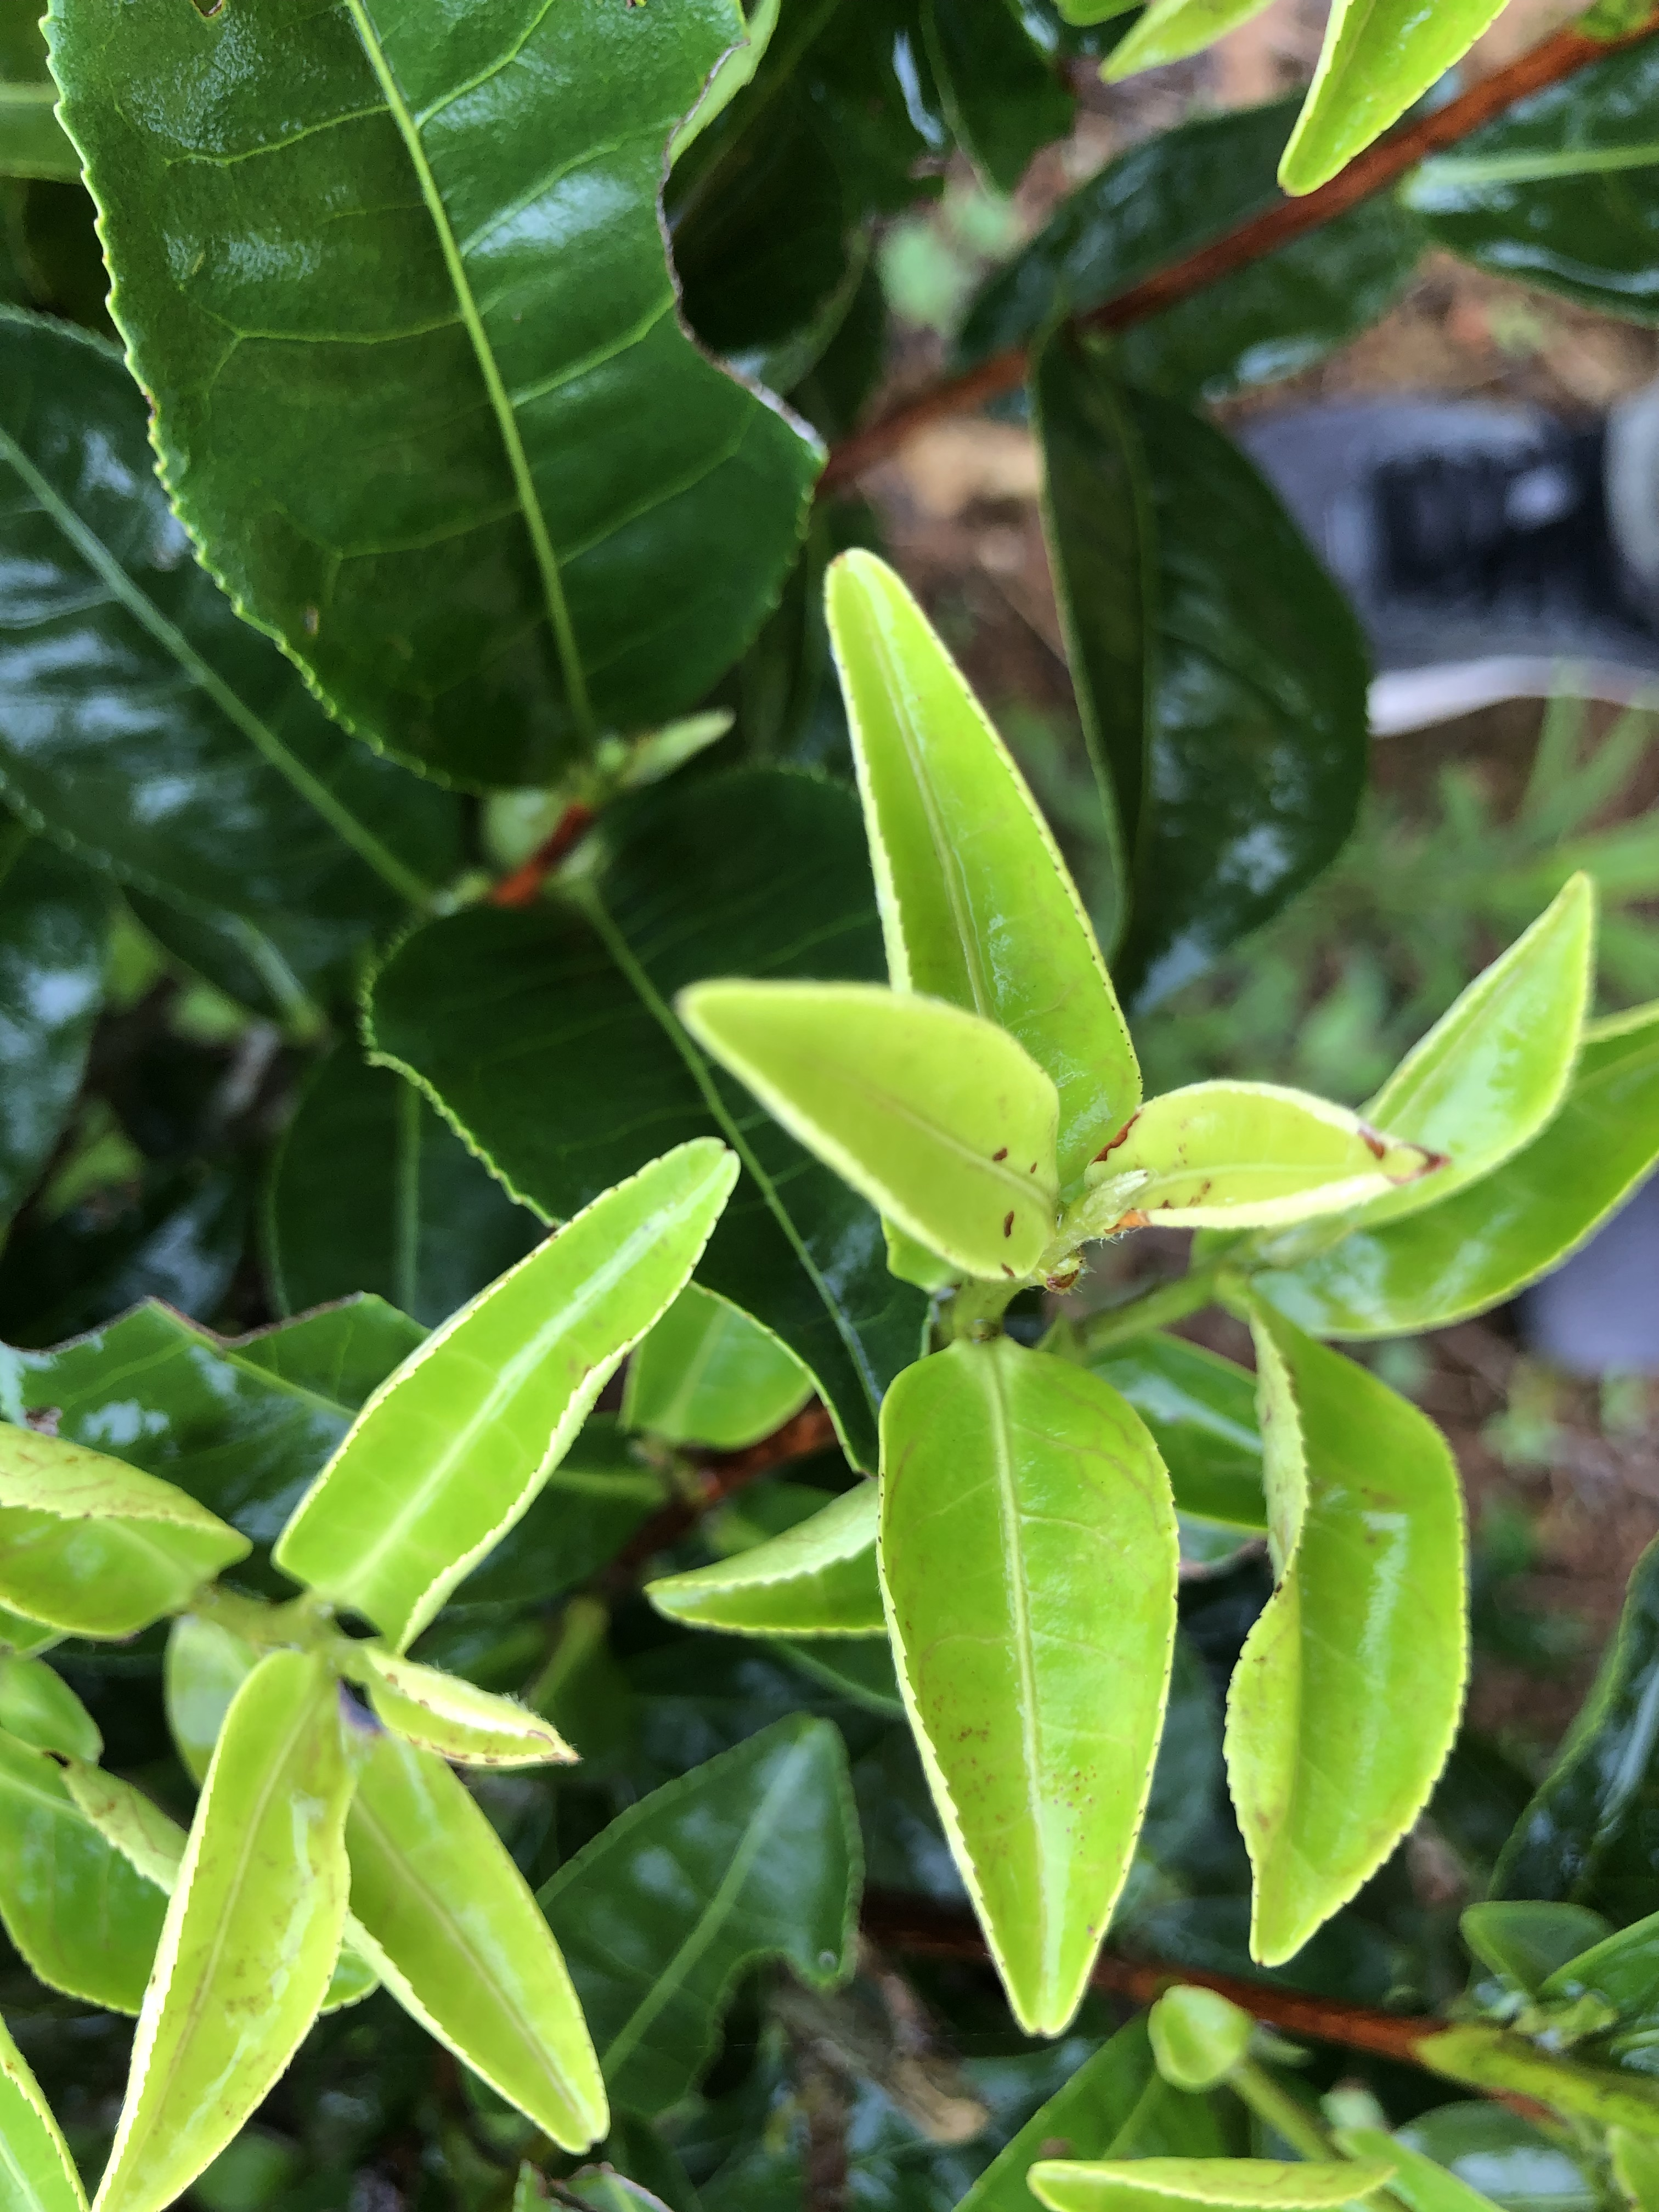formosa: (873, 1318, 1185, 2054), (91, 1646, 375, 2203)
